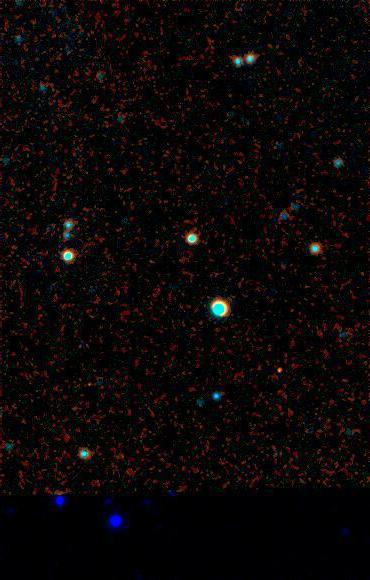star: (264, 354, 294, 384)
